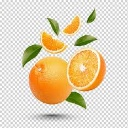orange: (66, 46, 106, 92)
